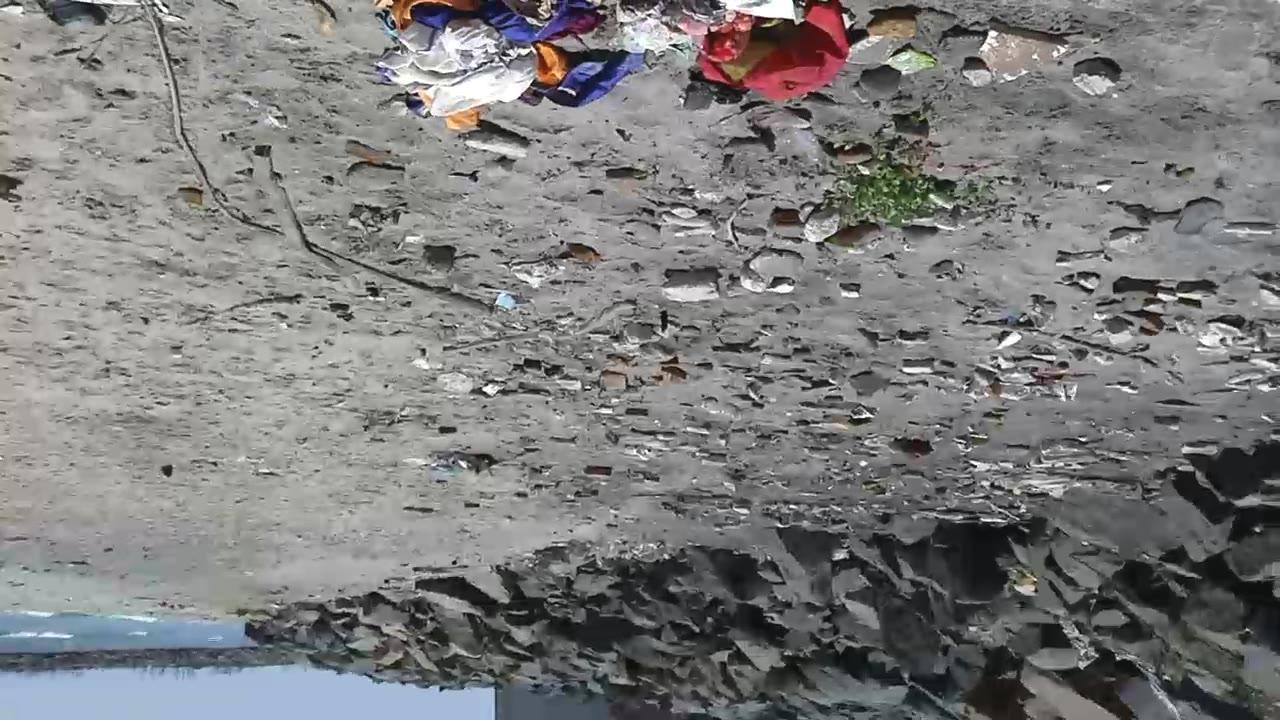large collection of objects: (1070, 60, 1124, 92), (859, 66, 900, 98), (808, 208, 839, 243)
obj: (366, 1, 668, 114), (619, 1, 850, 99), (960, 320, 1187, 384), (247, 146, 340, 274), (844, 155, 936, 222), (1171, 200, 1226, 240), (864, 6, 923, 40), (658, 268, 719, 300), (430, 449, 496, 478), (424, 243, 456, 277), (1164, 160, 1194, 182), (599, 369, 626, 392), (902, 359, 934, 372)
sand/background: (0, 419, 1280, 719)
